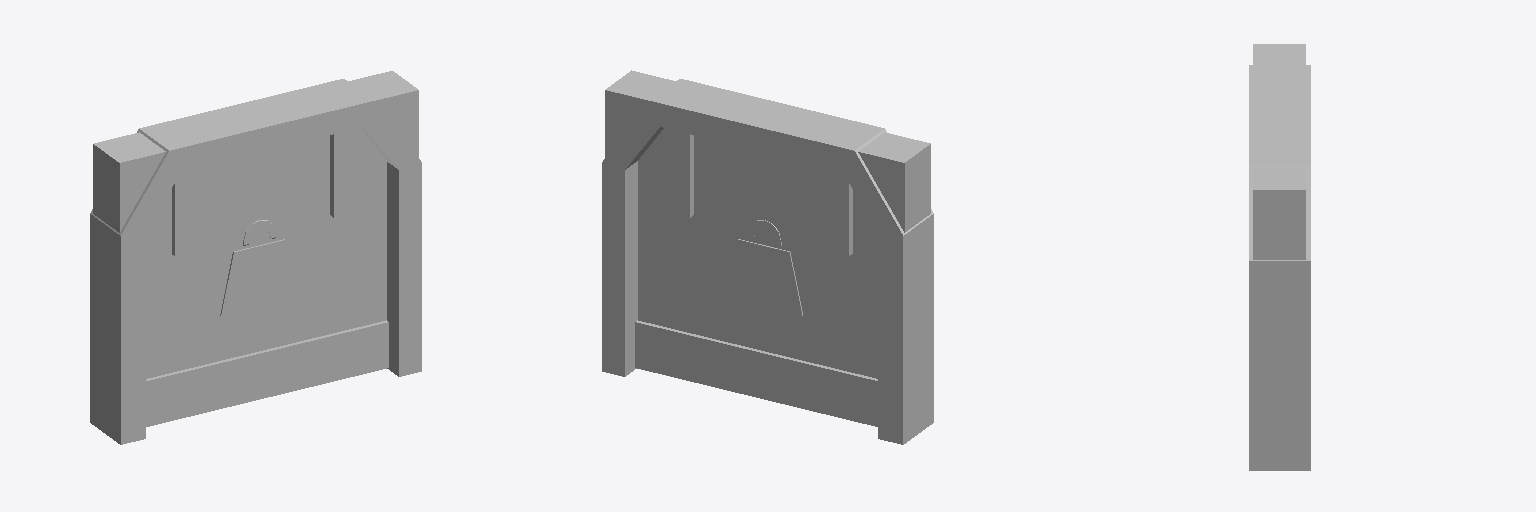
The model's file is Security Door BIG.obj.
3 views of the same model, side by side, from view 1: azimuth 30°, elevation 25°; view 2: azimuth 150°, elevation 25°; view 3: azimuth 270°, elevation 25° (orthographic).
Parts seen in each view (by area): view 1: Cube.198_Cube.270, Cube.199_Cube.271, Cube.203_Cube.275, Cube.201_Cube.273, Cube.202_Cube.274, Cube.196_Cube.268, Cube.197_Cube.269; view 2: Cube.198_Cube.270, Cube.199_Cube.271, Cube.203_Cube.275, Cube.200_Cube.272, Cube.202_Cube.274, Cube.197_Cube.269, Cube.196_Cube.268; view 3: Cube.199_Cube.271, Cube.202_Cube.274, Cube.203_Cube.275.
Boxes of the visible parts, box(x1,y1,x2,y2) form: Cube.198_Cube.270: box(146, 128, 388, 426); Cube.199_Cube.271: box(90, 79, 421, 444); Cube.203_Cube.275: box(93, 132, 165, 232); Cube.201_Cube.273: box(220, 239, 298, 315); Cube.202_Cube.274: box(348, 71, 418, 157); Cube.196_Cube.268: box(330, 130, 352, 217); Cube.197_Cube.269: box(172, 168, 194, 256); Cube.198_Cube.270: box(635, 128, 877, 426); Cube.199_Cube.271: box(602, 79, 933, 444); Cube.203_Cube.275: box(858, 132, 930, 232); Cube.200_Cube.272: box(725, 239, 802, 315); Cube.202_Cube.274: box(605, 70, 675, 157); Cube.197_Cube.269: box(829, 168, 852, 256); Cube.196_Cube.268: box(671, 130, 693, 217); Cube.199_Cube.271: box(1249, 65, 1310, 470); Cube.202_Cube.274: box(1253, 168, 1305, 259); Cube.203_Cube.275: box(1253, 44, 1305, 64).
Size of the model in its own units: 5.02 by 4.5 by 0.8812.